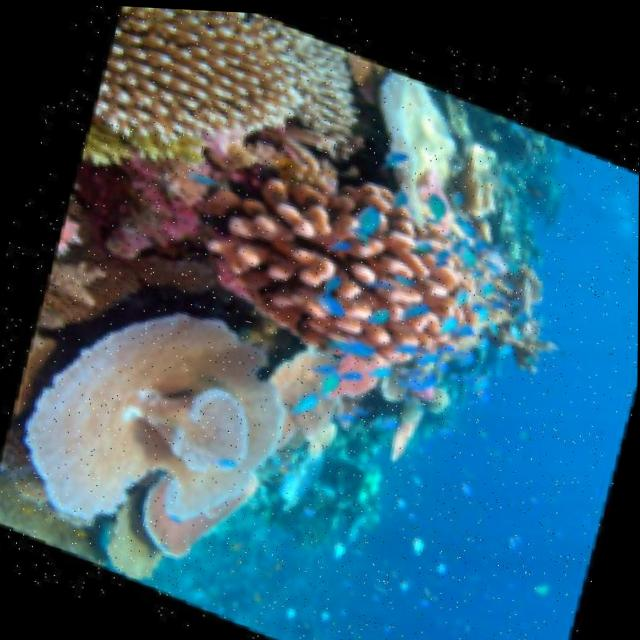Healthy Coral: (0, 264, 341, 630), (176, 101, 535, 416), (80, 3, 371, 195)
